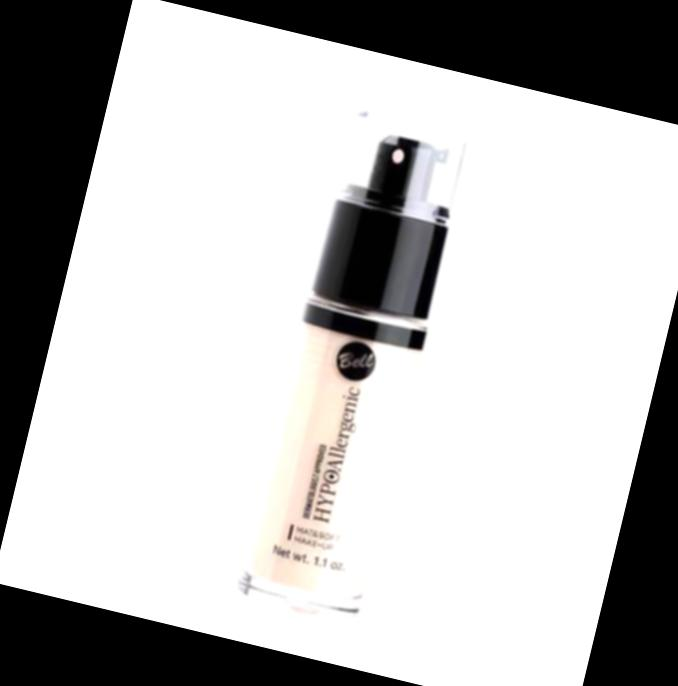cosmetic: (234, 106, 474, 627)
